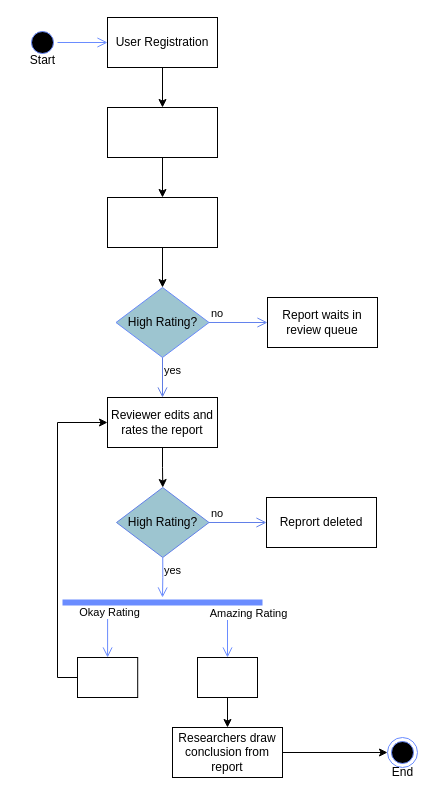
Image size: 439x805. Some labels were removed from this diagram. The shapes that lost their labels are listed below. From the top down, each one's centre as x and y in pixels, then its label:
At [162,132]: "Report Completion".
At [162,222]: "Volunteers assessment".
At [107,677]: "Further review".
At [227,677]: "Report published".
